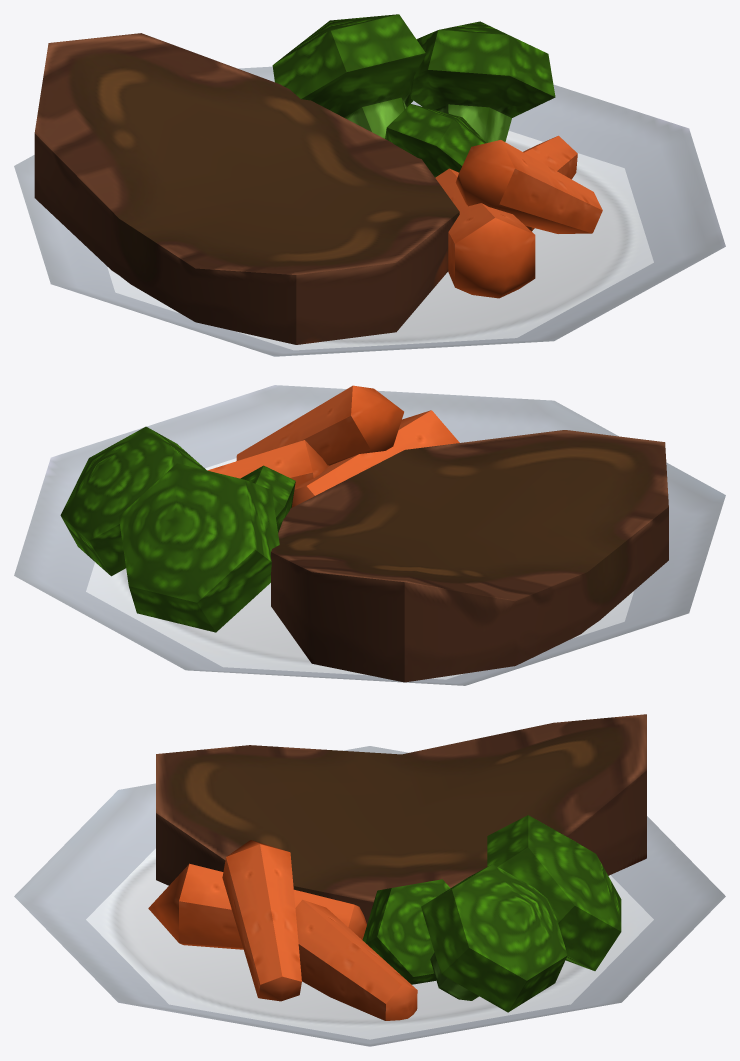
The model's file is steak.FBX.
The picture shows the model from 3 angles, top to bottom: view 1: azimuth 30°, elevation 25°; view 2: azimuth 150°, elevation 25°; view 3: azimuth 270°, elevation 25°; orthographic projection. The views are drawn at different scales.
Parts seen in each view (by area): view 1: steak; view 2: steak; view 3: steak.
Boxes of the visible parts, left/top/right/bottom form: steak: left=14, top=14, right=725, bottom=356; steak: left=14, top=385, right=725, bottom=685; steak: left=14, top=714, right=725, bottom=1046.
Size of the model in its own units: 11.05 by 2.67 by 11.05.
